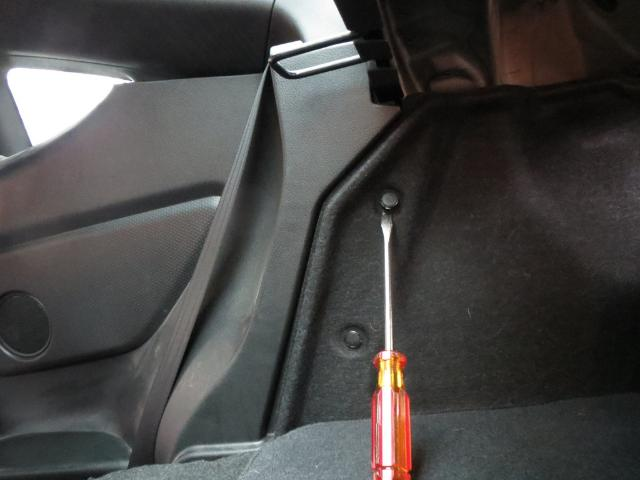Seatbelt: (128, 60, 270, 466)
